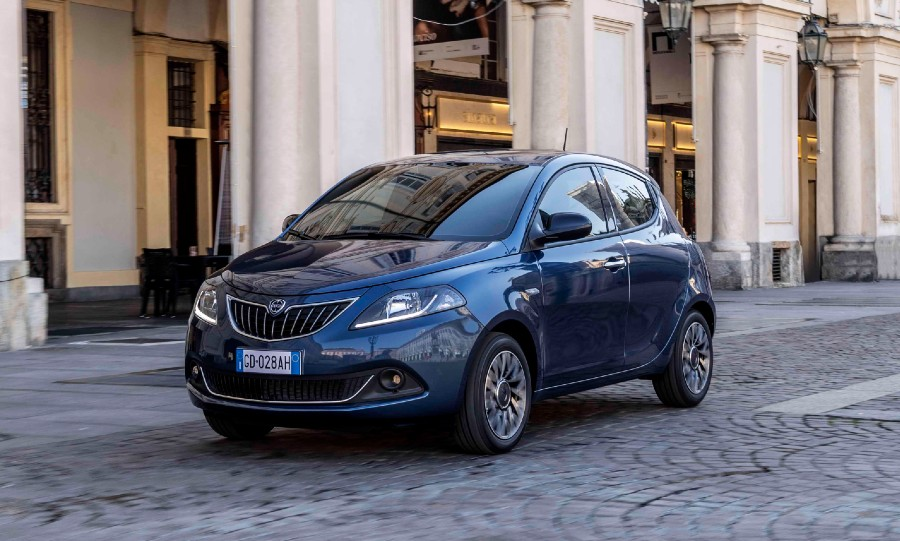car: (185, 148, 719, 456)
